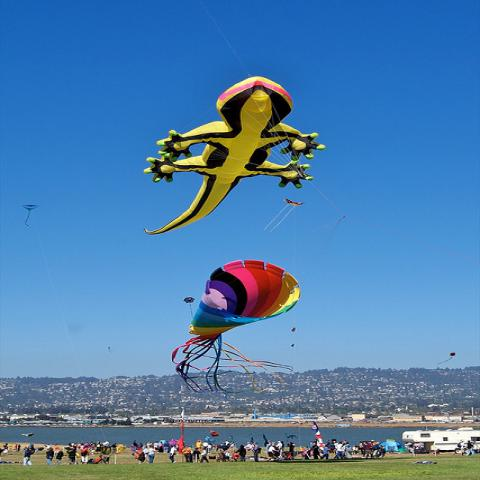truck: (401, 428, 479, 450), (428, 442, 460, 454)
